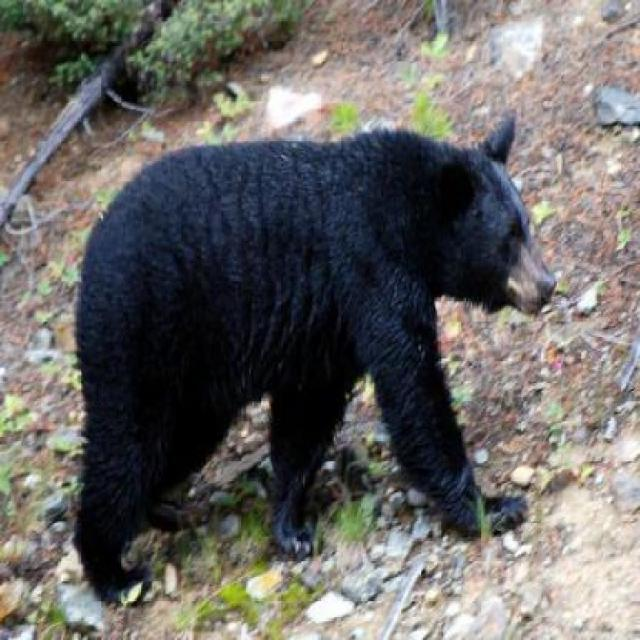Bear: (56, 108, 564, 597)
